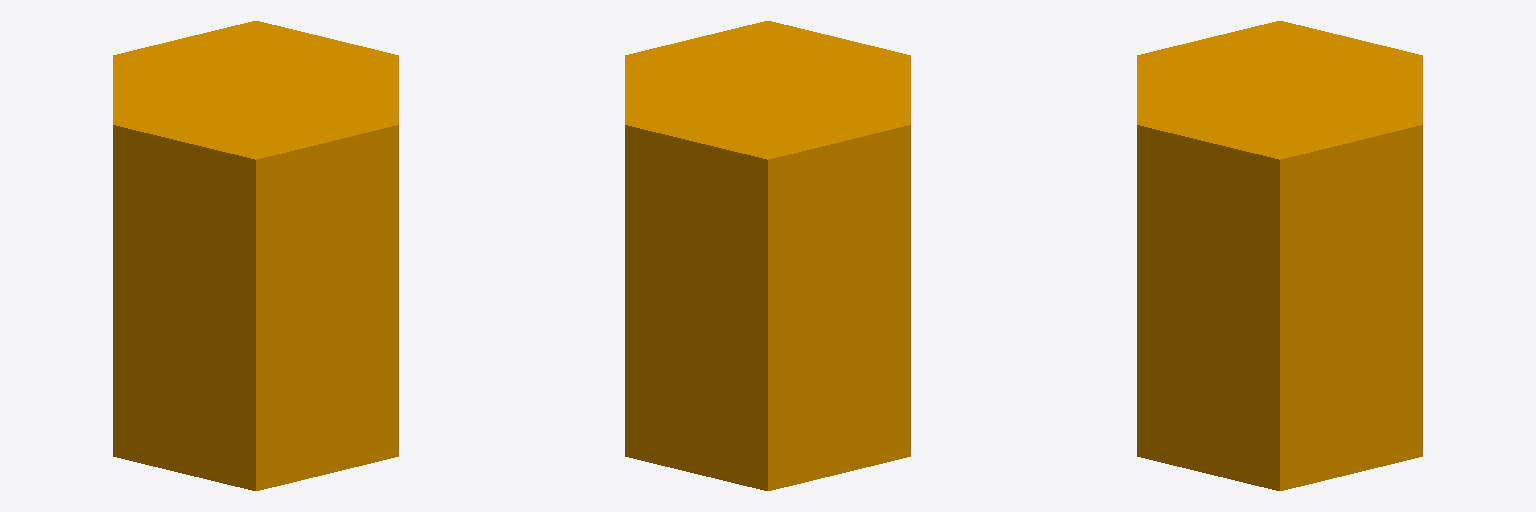
URDF robot description (hex_prism):
<?xml version="1.0" ?>
<robot name="hex_prism">
  <link name="hex_prism">
    <visual>
      <geometry>
        <mesh filename="hex_prism.obj" scale="3 3 4"/>
      </geometry>
    </visual>
    <collision>
      <geometry>
        <mesh filename="hex_prism.obj" scale="3 3 4"/>
      </geometry>
    </collision>
    <inertial>
      <mass value="1"/>
      <inertia ixx="0.01" iyy="0.01" izz="0.01" ixy="0" ixz="0" iyz="0"/>
      <origin xyz="0 0 0" rpy="0 0 0"/>
    </inertial>
  </link>
</robot>

--- What the picture shows (computed from the rendered views, not written in the file) ---
3 views of the same robot in one strip: view 1: azimuth 30°, elevation 25°; view 2: azimuth 150°, elevation 25°; view 3: azimuth 270°, elevation 25° (orthographic).
Model hex_prism with 1 links and 0 joints (none), rooted at hex_prism, posed all joints at 0.
Visible links, largest first — view 1: hex_prism; view 2: hex_prism; view 3: hex_prism.
Boxes of the visible links, <box> form: hex_prism: <box>113,21,398,490</box>; hex_prism: <box>625,21,910,490</box>; hex_prism: <box>1137,21,1422,490</box>.
Size in the robot's own frame: 0.072 by 0.0624 by 0.08 metres.
1 mesh visuals loaded from 1 distinct referenced files (1 OBJ).
